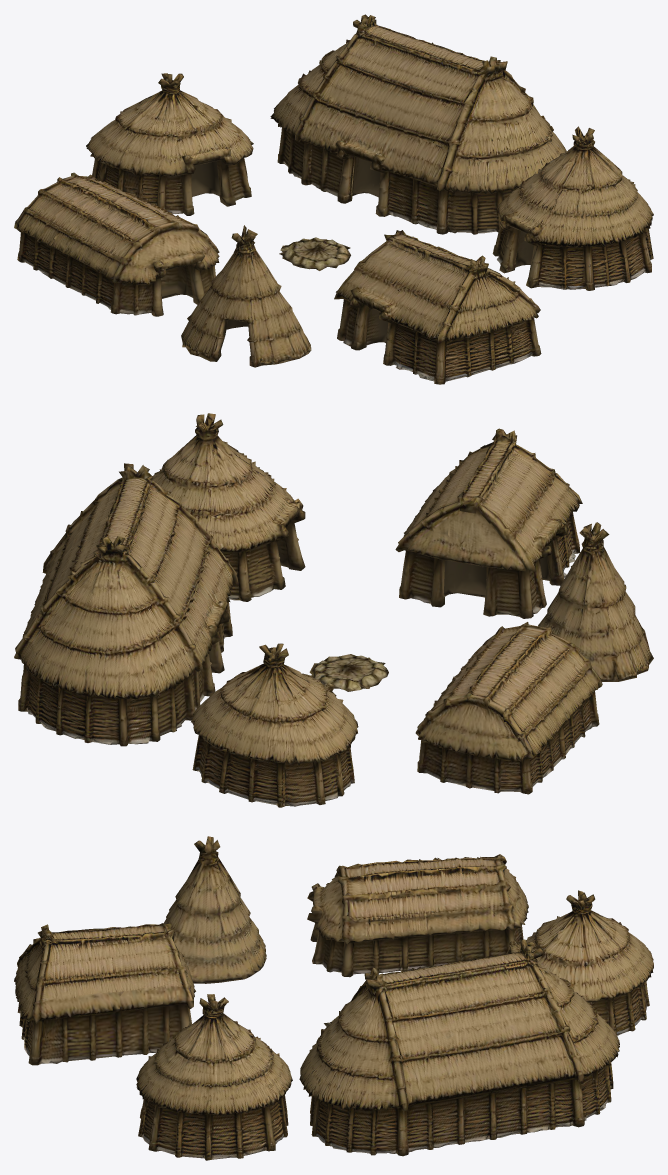
The model's file is Prehistoric Village (Mesoamerican).fbx.
3 views of the same model, one above another, from view 1: azimuth 30°, elevation 25°; view 2: azimuth 150°, elevation 25°; view 3: azimuth 270°, elevation 25° (orthographic). The views are drawn at different scales.
Parts seen in each view (by area): view 1: tripo_node_dee77340; view 2: tripo_node_dee77340; view 3: tripo_node_dee77340.
Part boxes in pixels (x1,y1,x2,y2): tripo_node_dee77340: [14, 14, 653, 384]; tripo_node_dee77340: [14, 413, 653, 807]; tripo_node_dee77340: [14, 836, 653, 1160].
Bounding box in the file's own units: 0.9202 × 0.2746 × 1.
